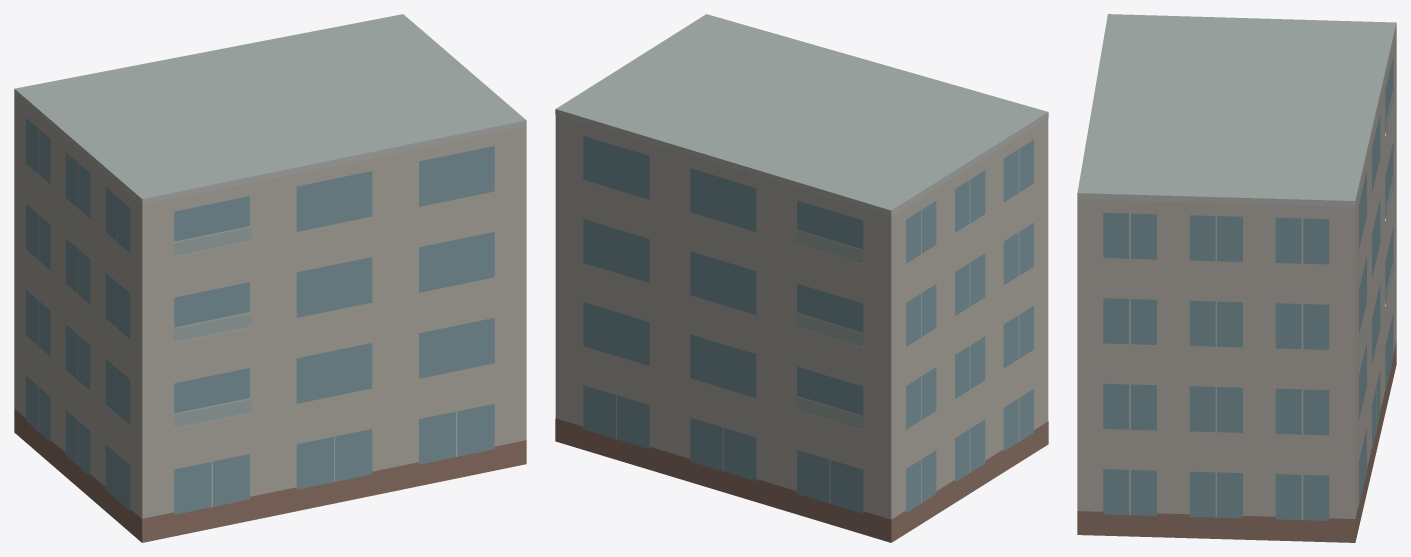
Rendered from survey-upis-32909991.glb.
3 renders of one model, left to right at view 1: azimuth 30°, elevation 25°; view 2: azimuth 150°, elevation 25°; view 3: azimuth 270°, elevation 25°, orthographic. The views are drawn at different scales.
Visible parts, largest first — view 1: survey-upis-32909991.tmp; view 2: survey-upis-32909991.tmp; view 3: survey-upis-32909991.tmp.
Boxes of the visible parts, x1,y1,x2,y2 form: survey-upis-32909991.tmp: (14, 14, 526, 542); survey-upis-32909991.tmp: (555, 14, 1048, 542); survey-upis-32909991.tmp: (1077, 14, 1396, 542).
Size of the model in its own units: 16.01 by 13.63 by 11.55.
